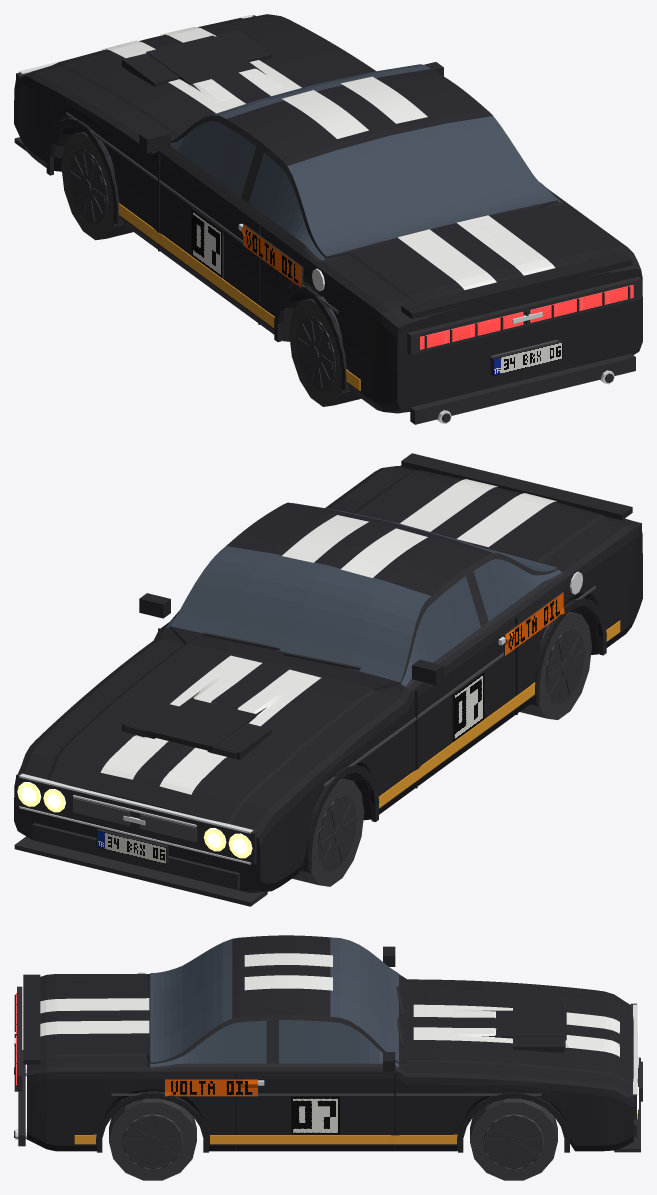
File: braxton.glb
The picture shows the model from 3 angles, top to bottom: view 1: azimuth 30°, elevation 25°; view 2: azimuth 150°, elevation 25°; view 3: azimuth 270°, elevation 25°; orthographic projection. The views are drawn at different scales.
Visible parts, largest first — view 1: body.008, livery.008, wheel_RL.008, wheel_FL.008; view 2: body.008, livery.008, wheel_RL.008, wheel_FL.008; view 3: body.008, livery.008, wheel_RR.008, wheel_FR.008.
Part boxes in pixels (x1,y1,x2,y2): body.008: (14,14,642,424); livery.008: (101,27,555,390); wheel_RL.008: (289,296,361,406); wheel_FL.008: (61,132,133,240); body.008: (14,453,642,906); livery.008: (100,479,620,808); wheel_RL.008: (520,611,591,719); wheel_FL.008: (292,778,364,886); body.008: (14,935,642,1152); livery.008: (40,953,619,1144); wheel_RR.008: (109,1091,196,1180); wheel_FR.008: (470,1098,557,1180).
Size of the model in its own units: 2.22 by 1.47 by 5.14.
Materials: 17 (6 with a texture image).
